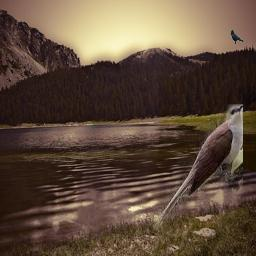Crow: (231, 29, 244, 45)
Cuckoo: (153, 104, 243, 231)
